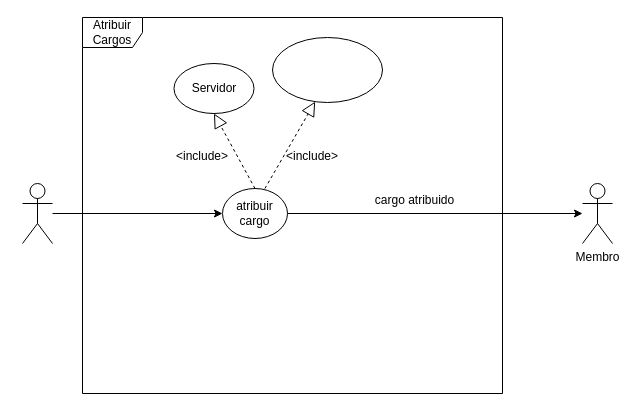
Some shapes in this 637 by 411 pixel diagram are drawn without their labels. Each missing label, with the box of its shape:
Selecionar cargo disponivel: (272, 36, 382, 102)
Usuário: (22, 182, 52, 244)
